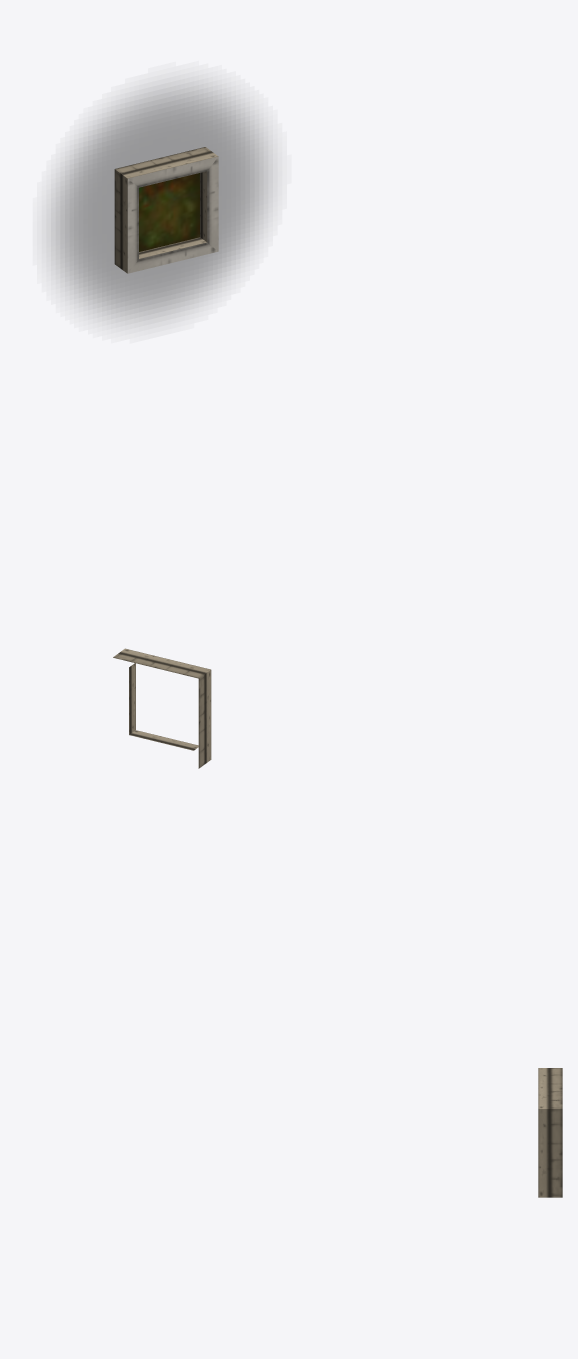
The model's file is prop_tree_large_brickbox_ur.glb.
3 views of the same model, one above another, from view 1: azimuth 30°, elevation 25°; view 2: azimuth 150°, elevation 25°; view 3: azimuth 270°, elevation 25° (orthographic). The views are drawn at different scales.
Visible parts, largest first — view 1: shadow_large_brickbox_ur, box_drit_1; view 2: box_drit_1; view 3: box_drit_1.
Part boxes in pixels (x1,y1,x2,y2): shadow_large_brickbox_ur: [51, 83, 268, 322]; box_drit_1: [114, 147, 218, 273]; box_drit_1: [113, 648, 211, 768]; box_drit_1: [538, 1068, 562, 1197].
Size of the model in its own units: 16.89 by 16.89 by 29.25.
5 materials, 5 textured.
